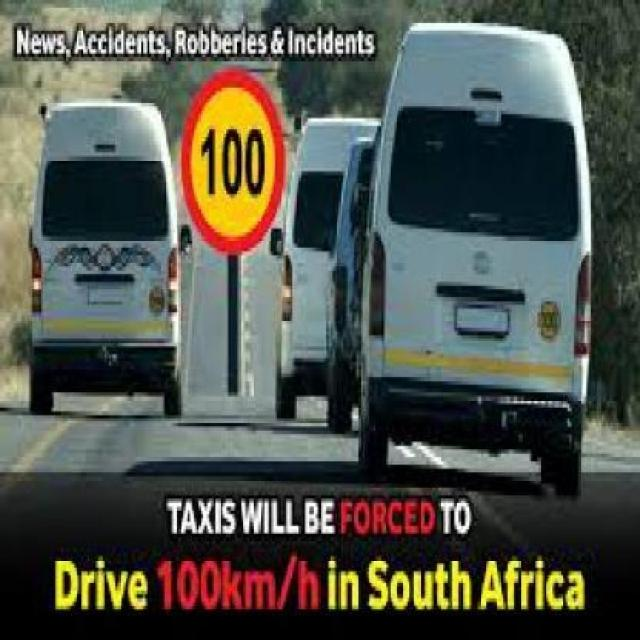forb_speed_over_100: (181, 74, 287, 252)
